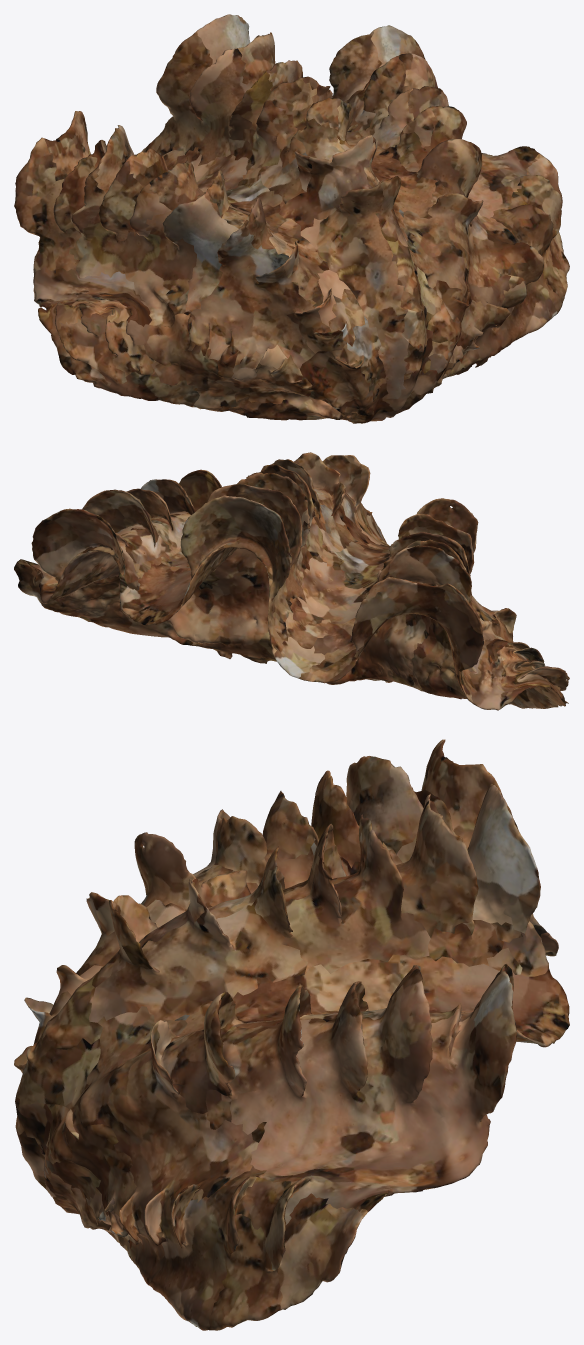
Rendered from usnm_1444w-150k.obj.
3 renders of one model, top to bottom at view 1: azimuth 30°, elevation 25°; view 2: azimuth 150°, elevation 25°; view 3: azimuth 270°, elevation 25°, orthographic. The views are drawn at different scales.
Size of the model in its own units: 0.2792 by 0.148 by 0.1806.
